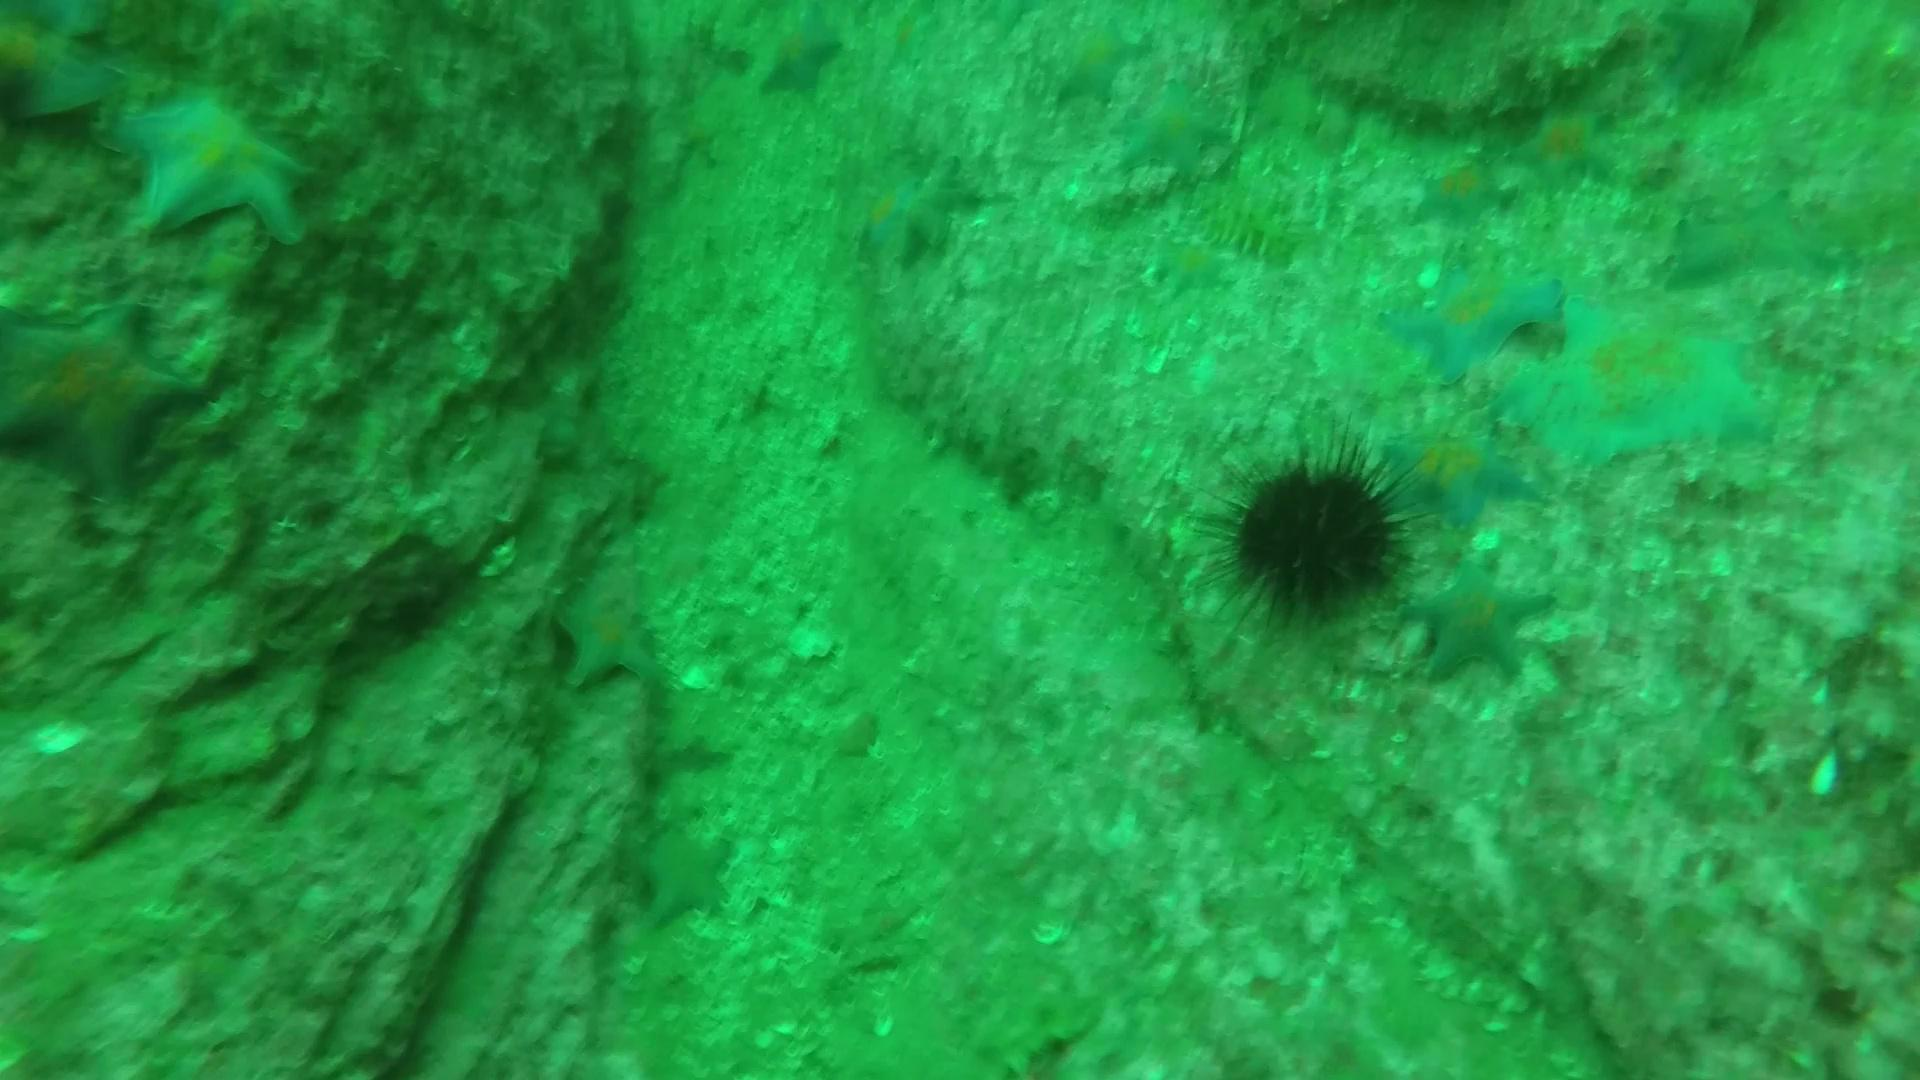urchin: (1222, 440, 1422, 618)
